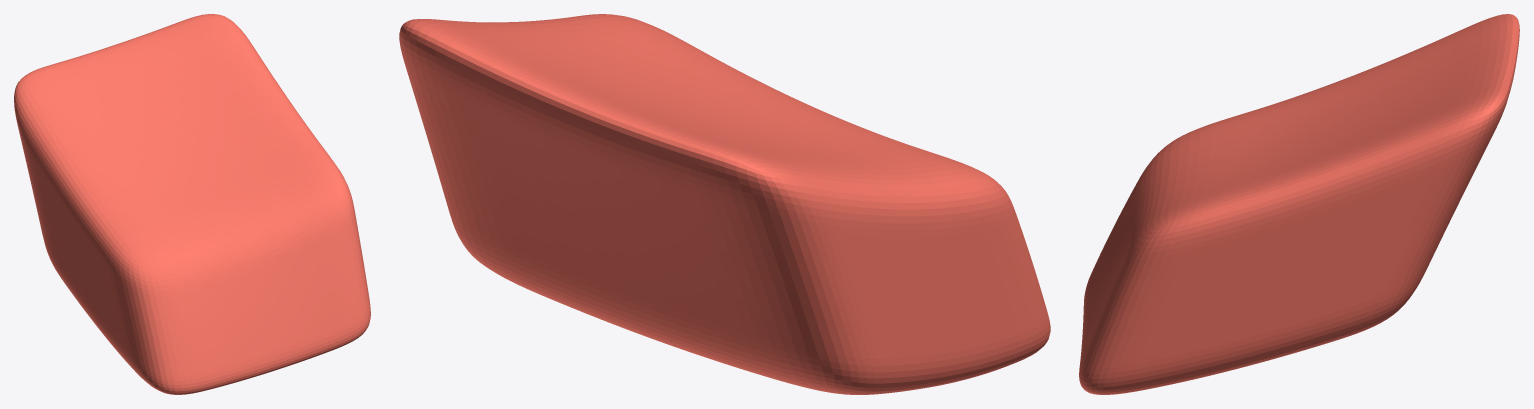
3 views of the same model, side by side, from view 1: azimuth 30°, elevation 25°; view 2: azimuth 150°, elevation 25°; view 3: azimuth 270°, elevation 25° (orthographic). The views are drawn at different scales.
Visible parts, largest first — view 1: waves_1.051; view 2: waves_1.051; view 3: waves_1.051.
Part boxes in pixels (x1,y1,x2,y2): waves_1.051: [14, 14, 370, 394]; waves_1.051: [399, 14, 1050, 394]; waves_1.051: [1079, 14, 1519, 394].
Size of the model in its own units: 30.12 by 29.65 by 37.44.
